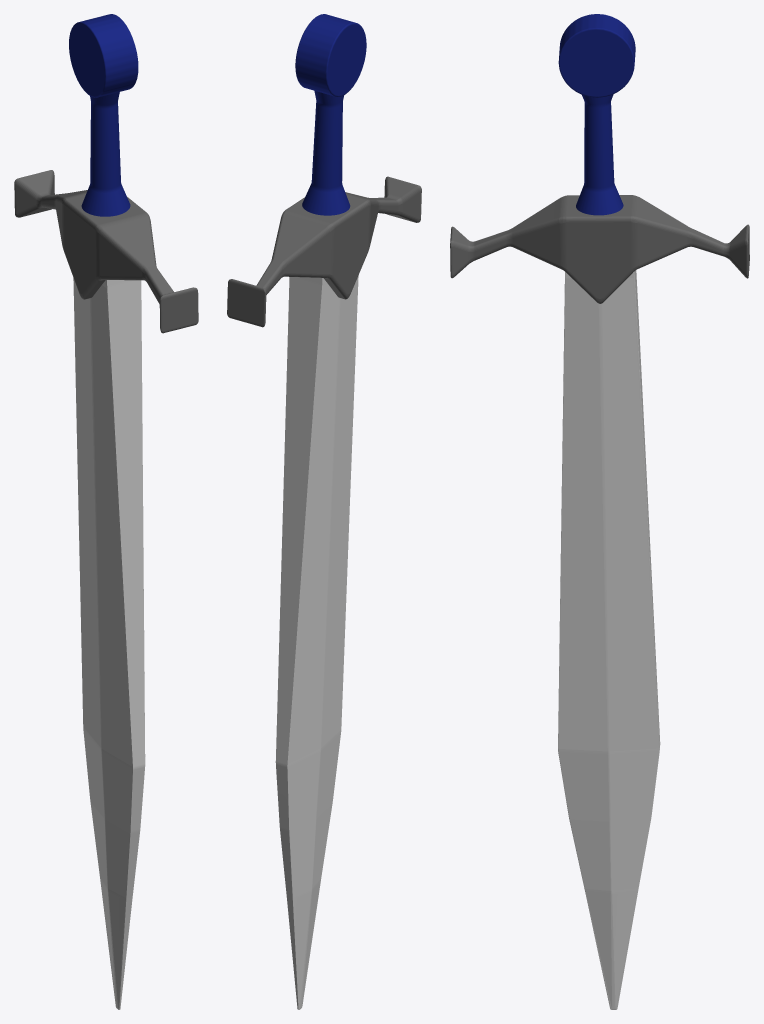
Rendered from plataforma_espada.fbx.
The picture shows the model from 3 angles, left to right: view 1: azimuth 30°, elevation 25°; view 2: azimuth 150°, elevation 25°; view 3: azimuth 270°, elevation 25°; orthographic projection. The views are drawn at different scales.
Visible parts, largest first — view 1: Cylinder; view 2: Cylinder; view 3: Cylinder.
Boxes of the visible parts, x1=… form: Cylinder: x1=14, y1=14, x2=198, y2=1009; Cylinder: x1=227, y1=14, x2=421, y2=1009; Cylinder: x1=450, y1=14, x2=749, y2=1009.
Bounding box in the file's own units: 5.23 × 90.68 × 25.19.
